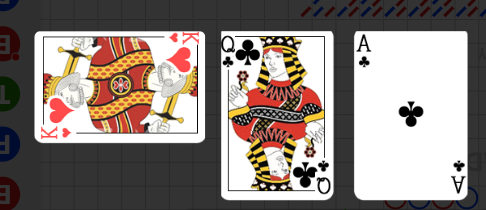AC: (356, 33, 374, 71)
KH: (39, 125, 73, 141), (167, 31, 201, 45)
QC: (223, 31, 267, 78), (290, 152, 334, 198)
